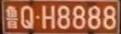Q: (21, 6, 34, 29)
